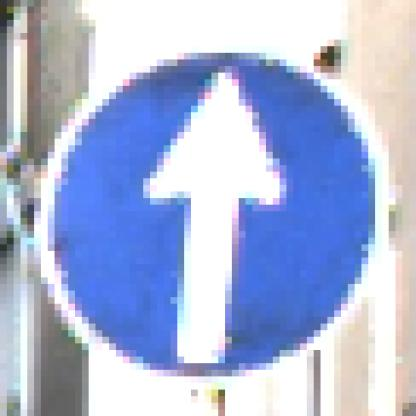AheadOnly: (35, 41, 383, 384)
